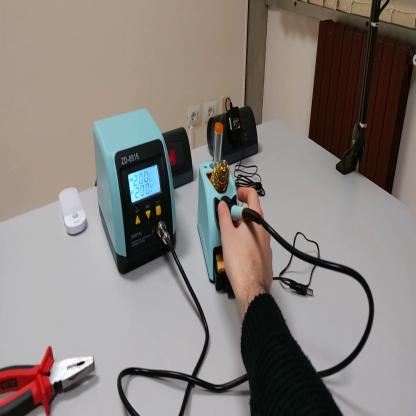hand: (215, 187, 275, 304)
pliers: (2, 350, 101, 416)
socket: (208, 103, 261, 166), (163, 124, 198, 196)
welder base: (200, 114, 244, 299)
welder probe tip: (221, 197, 263, 227)
welder station: (93, 106, 178, 282)
